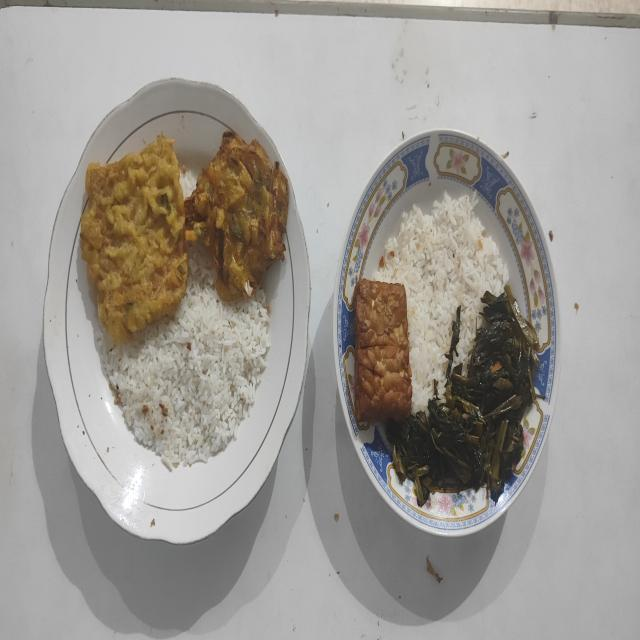nasi_putih: (95, 253, 271, 469), (373, 192, 509, 414)
tempe_goreng: (353, 278, 412, 424)
tumis_kangkung: (386, 285, 540, 505)
